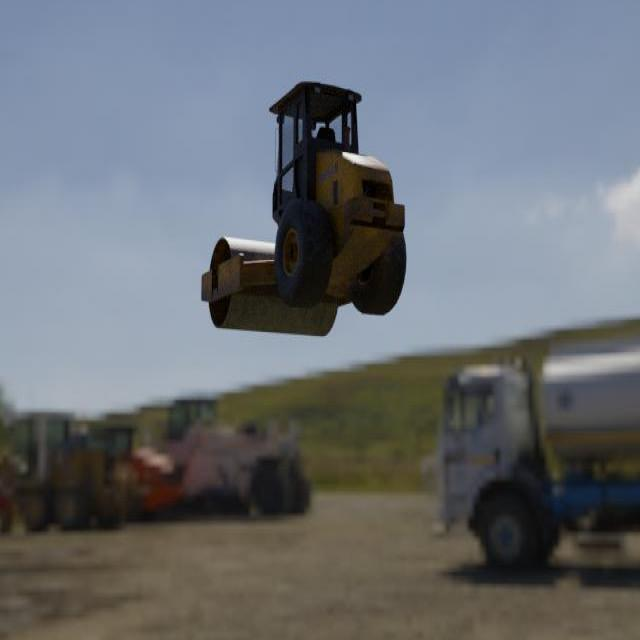Roller: (200, 80, 407, 337)
